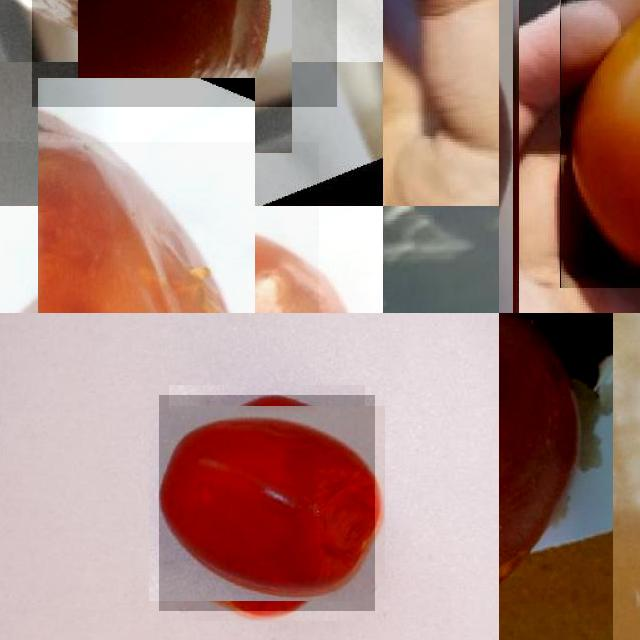1: (0, 142, 319, 313), (32, 0, 337, 107)
Rotten Tomato: (159, 395, 375, 611), (499, 313, 613, 640), (560, 0, 640, 288)
